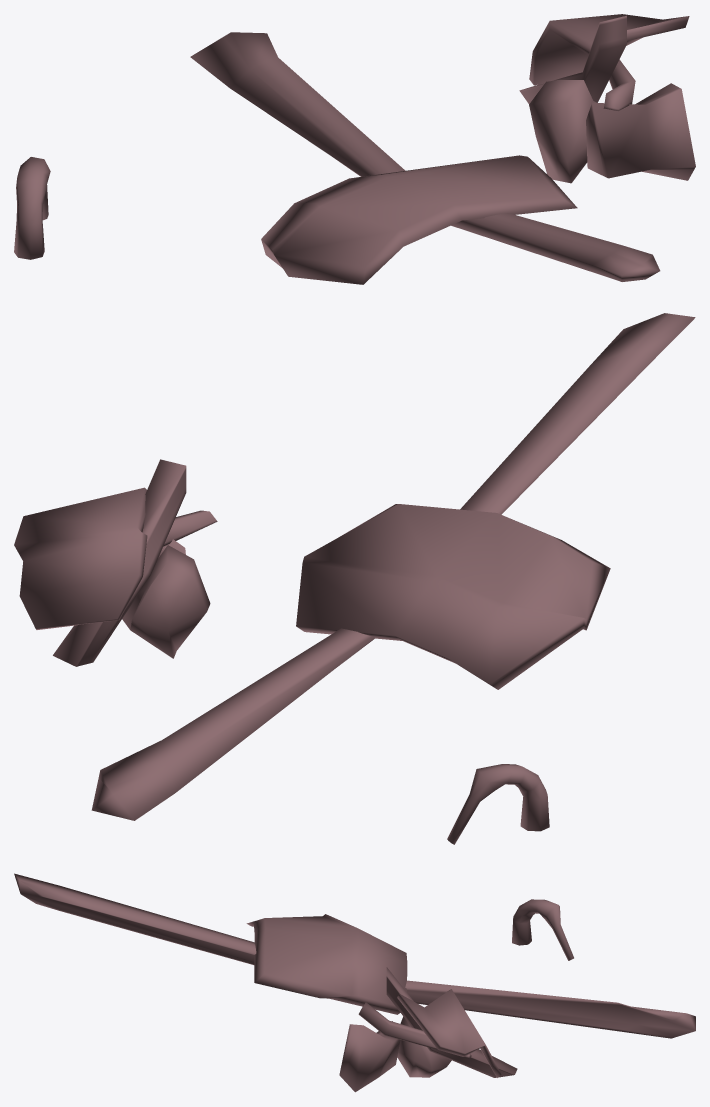
Rendered from scrap_pile.glb.
3 views of the same model, one above another, from view 1: azimuth 30°, elevation 25°; view 2: azimuth 150°, elevation 25°; view 3: azimuth 270°, elevation 25° (orthographic). The views are drawn at different scales.
Visible parts, largest first — view 1: scrap_pile2, scrap_pile1, scrap_pile3; view 2: scrap_pile2, scrap_pile1, scrap_pile3; view 3: scrap_pile2, scrap_pile1, scrap_pile3.
Part boxes in pixels (<box>): scrap_pile2: <box>190,32,660,284</box>; scrap_pile1: <box>519,14,695,183</box>; scrap_pile3: <box>14,157,50,259</box>; scrap_pile2: <box>91,313,695,820</box>; scrap_pile1: <box>14,459,217,666</box>; scrap_pile3: <box>447,764,549,844</box>; scrap_pile2: <box>14,873,695,1038</box>; scrap_pile1: <box>339,967,517,1092</box>; scrap_pile3: <box>512,899,573,960</box>.
Bounding box in the file's own units: 44.77 × 14.79 × 64.73.
